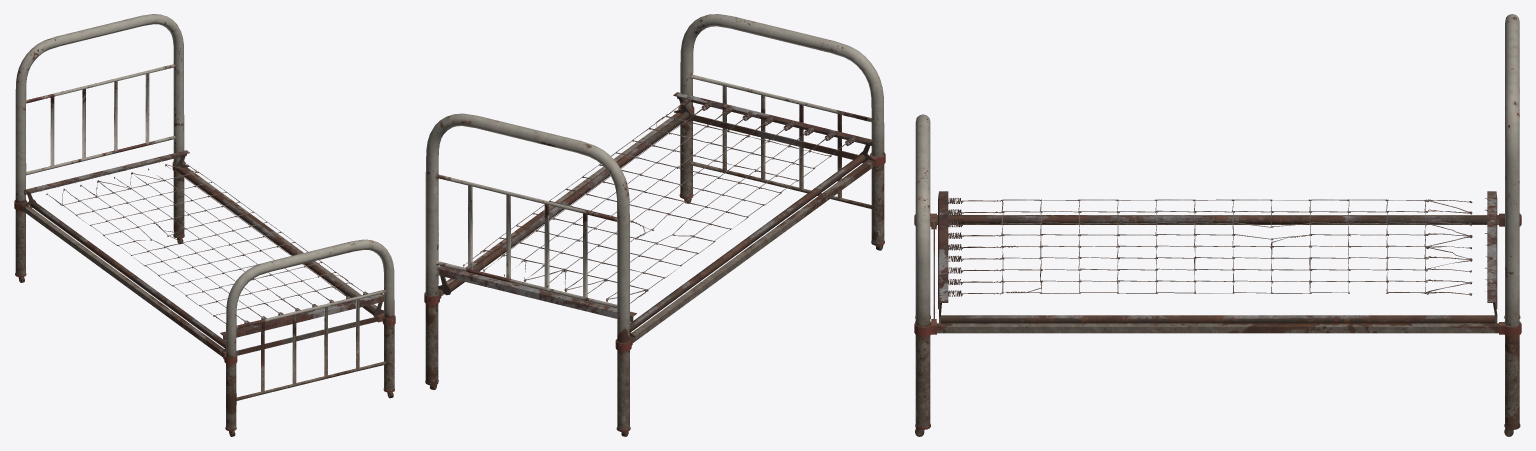
File: old_bed_frame.glb
The picture shows the model from 3 angles, left to right: view 1: azimuth 30°, elevation 25°; view 2: azimuth 150°, elevation 25°; view 3: azimuth 270°, elevation 25°; orthographic projection. The views are drawn at different scales.
Parts seen in each view (by area): view 1: old_bed_frame; view 2: old_bed_frame; view 3: old_bed_frame.
Boxes of the visible parts, <box> form: old_bed_frame: <box>14,14,395,436</box>; old_bed_frame: <box>424,14,885,436</box>; old_bed_frame: <box>914,14,1521,436</box>.
Bounding box in the file's own units: 0.9047 × 1.2 × 2.
1 material, 1 textured.
